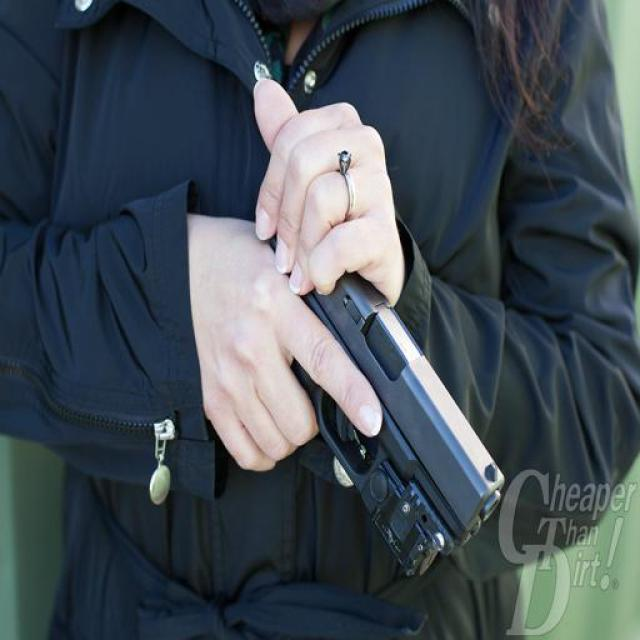pistol: (225, 196, 506, 585)
